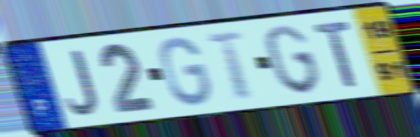2: (99, 40, 159, 117)
G: (263, 23, 324, 97), (158, 35, 214, 109)
J: (64, 48, 101, 117)
T: (203, 30, 256, 102), (311, 19, 361, 90)
